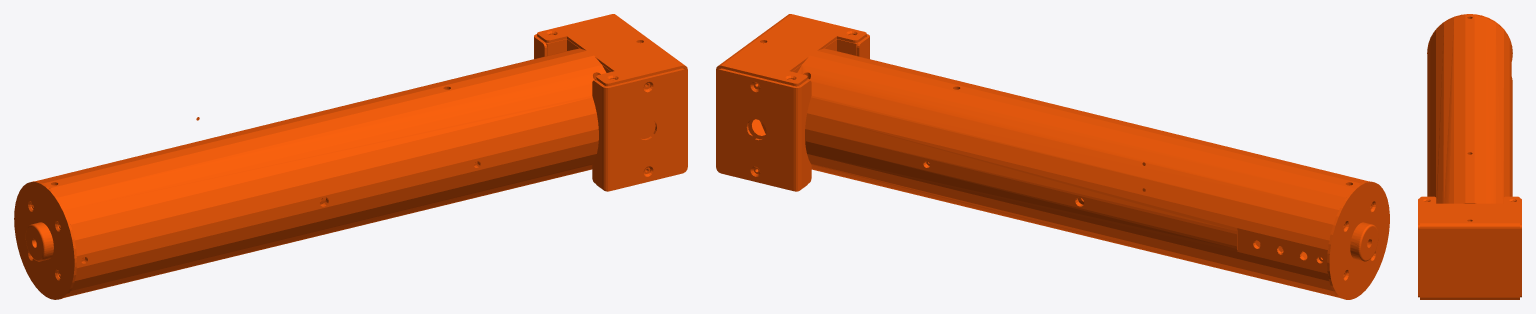
Rendered from arm1.dae.
3 renders of one model, left to right at view 1: azimuth 30°, elevation 25°; view 2: azimuth 150°, elevation 25°; view 3: azimuth 270°, elevation 25°, orthographic. The views are drawn at different scales.
Parts seen in each view (by area): view 1: Arm-link-1; view 2: Arm-link-1; view 3: Arm-link-1.
Part boxes in pixels (x1,y1,x2,y2): Arm-link-1: [14, 14, 687, 299]; Arm-link-1: [716, 14, 1389, 299]; Arm-link-1: [1418, 14, 1521, 299].
Size of the model in its own units: 18.74 by 3.85 by 3.21.
